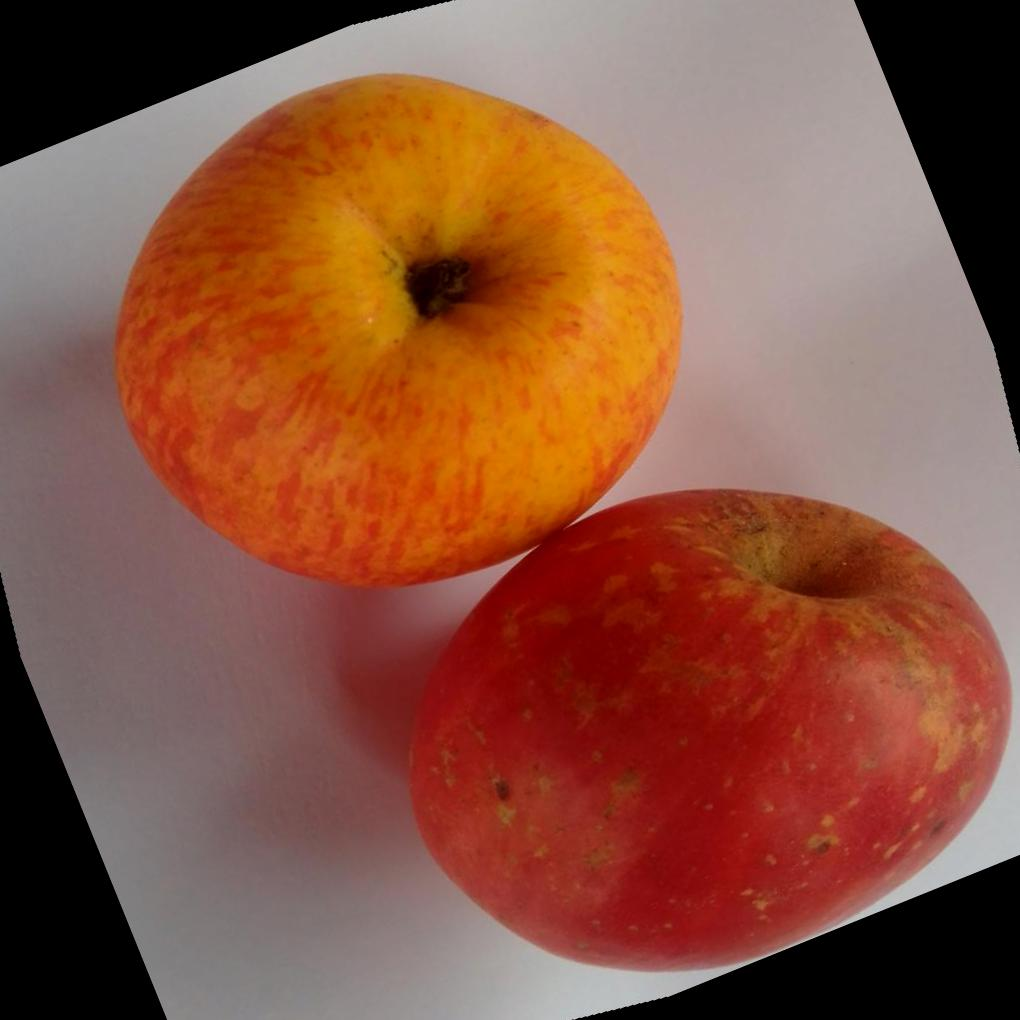FreshGuava: (108, 71, 1011, 974)
